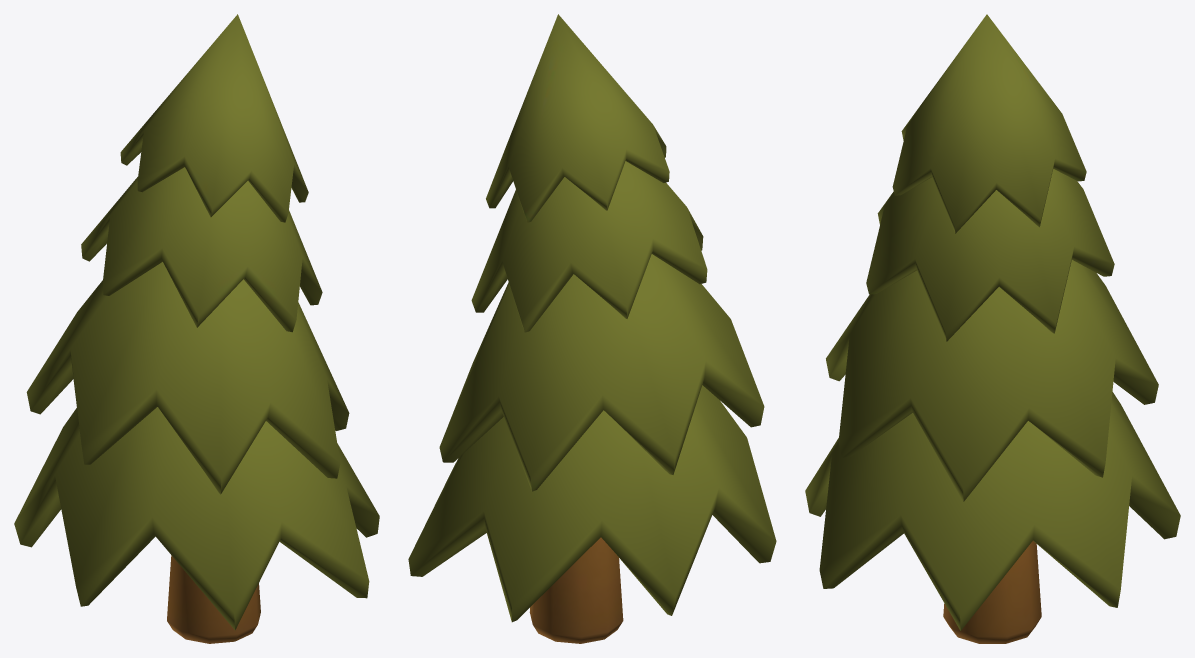
Rendered from tree_3.fbx.
The picture shows the model from 3 angles, left to right: view 1: azimuth 30°, elevation 25°; view 2: azimuth 150°, elevation 25°; view 3: azimuth 270°, elevation 25°; orthographic projection. The views are drawn at different scales.
Parts seen in each view (by area): view 1: tree_3; view 2: tree_3; view 3: tree_3.
Boxes of the visible parts, x1,y1,x2,y2 form: tree_3: (14,14,379,643); tree_3: (408,14,776,643); tree_3: (805,14,1180,643).
Bounding box in the file's own units: 83.14 × 151 × 82.72.
